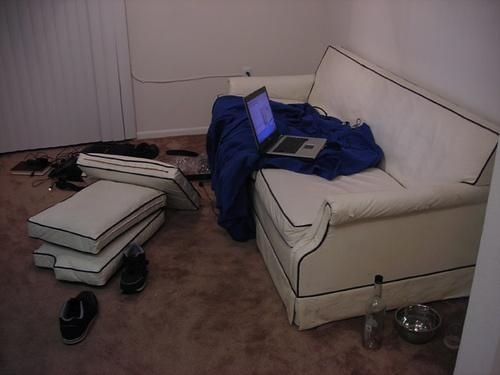bottle: (364, 273, 388, 354)
sofa: (214, 43, 500, 333)
